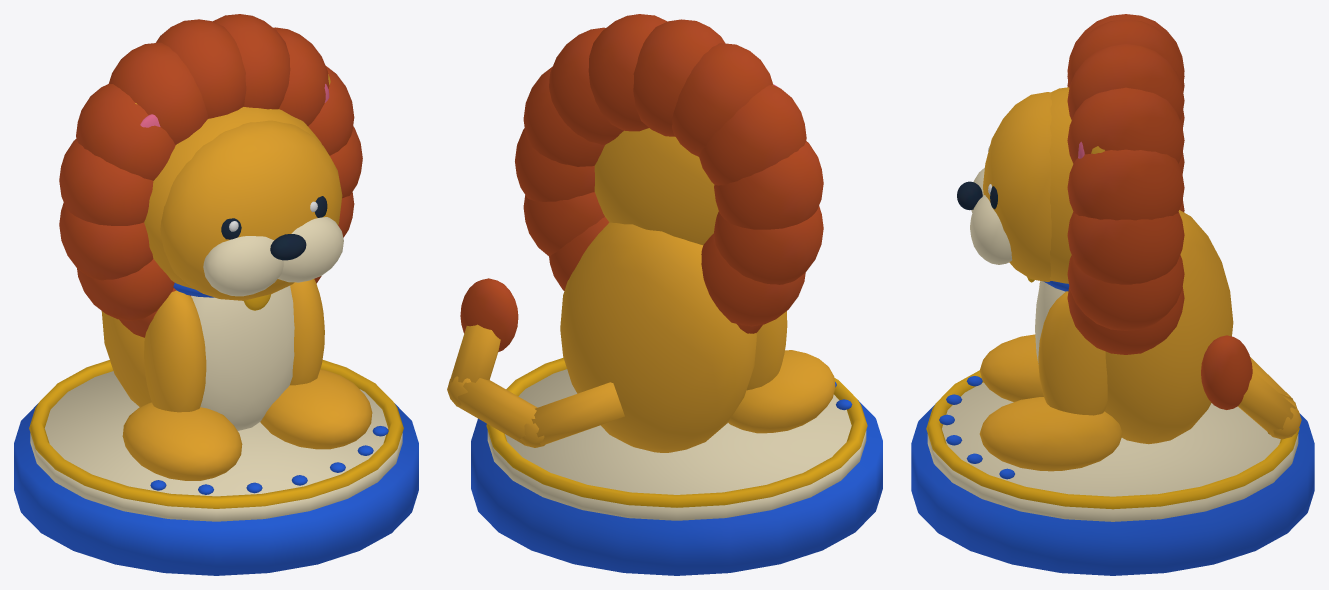
File: blue_lion.glb
3 views of the same model, side by side, from view 1: azimuth 30°, elevation 25°; view 2: azimuth 150°, elevation 25°; view 3: azimuth 270°, elevation 25° (orthographic). The views are drawn at different scales.
Visible parts, largest first — view 1: world; view 2: world; view 3: world.
Boxes of the visible parts, box(x1,y1,x2,y2) form: world: box(14, 14, 418, 575); world: box(447, 14, 882, 575); world: box(911, 14, 1314, 575).
Bounding box in the file's own units: 0.124 × 0.1568 × 0.124.
